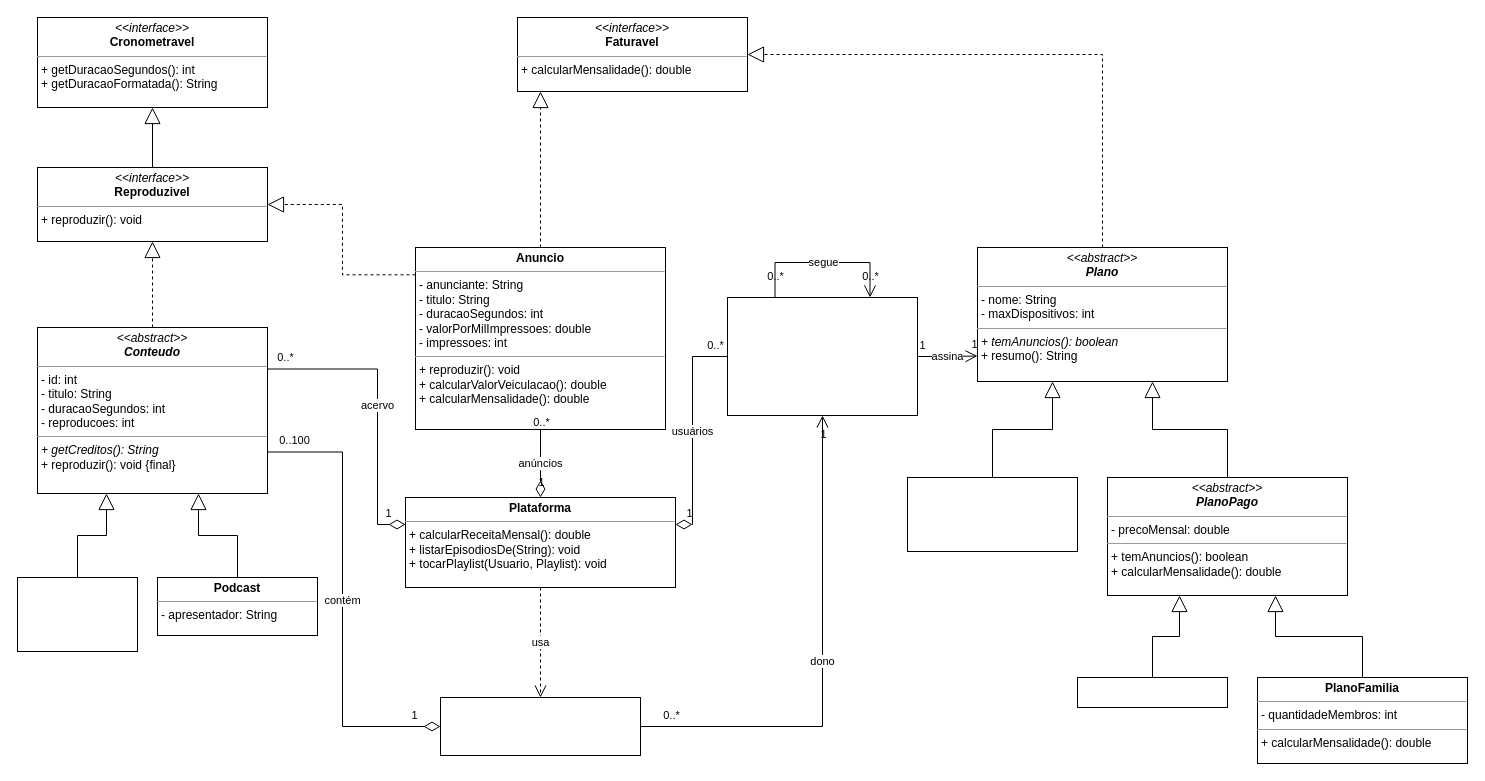
Image size: 1485x781. Some labels were removed from this diagram. Here are the shapes that lost their labels. From the top down, the centre of each, then its label:
the point at 822,356: Usuario - id: int - nome: String - email: String + assinar(Plano): void
the point at 992,514: PlanoGratuito + temAnuncios(): boolean + calcularMensalidade(): double
the point at 77,614: Musica - artista: String - album: String
the point at 1152,692: PlanoIndividual
the point at 540,726: Playlist - nome: String
